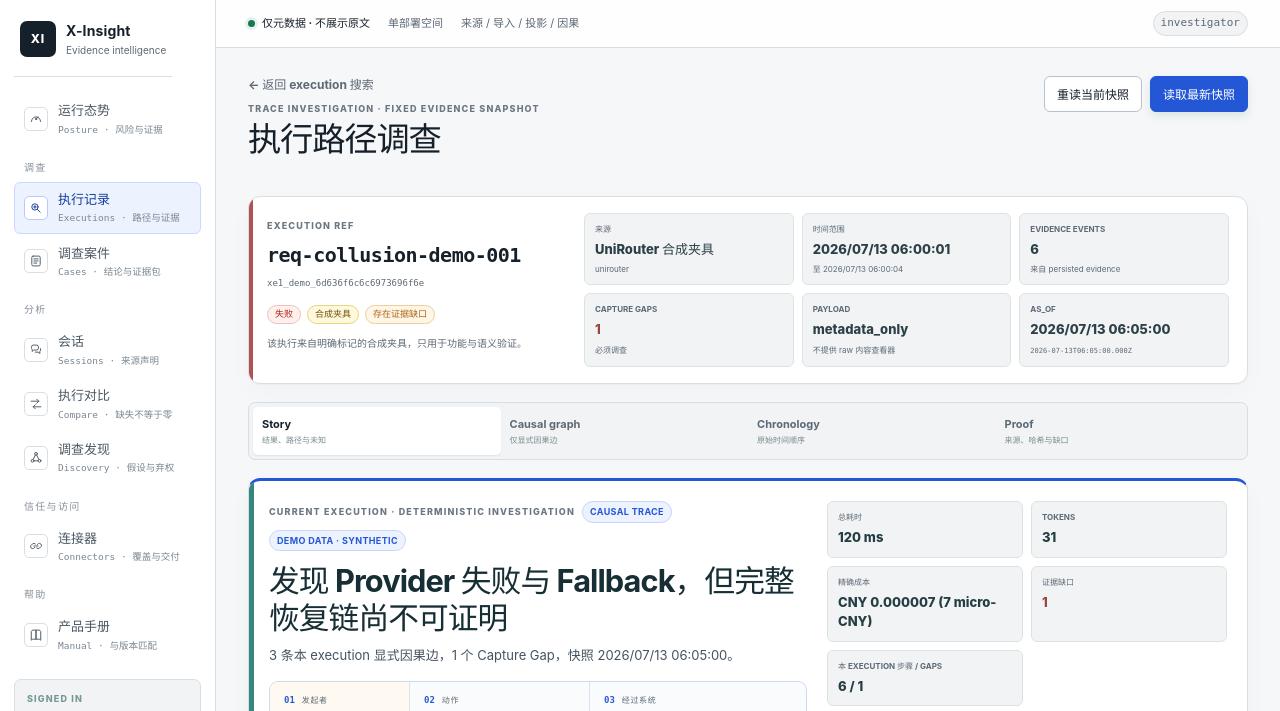
Test: PRD2 investigation UI › shows chronology separately from declared causality and exposes allowlisted source detail
Expected: the heading "执行路径调查" is shown, [248,119,441,159]
Expected: the text "发起者" is shown, [302,695,328,705]
What coordinates should you click on to do the following:
click the button "Chronology 原始时间顺序"
I would click on:
 (872, 431)
Its box is [748,406,996,455].
(page scrolled)
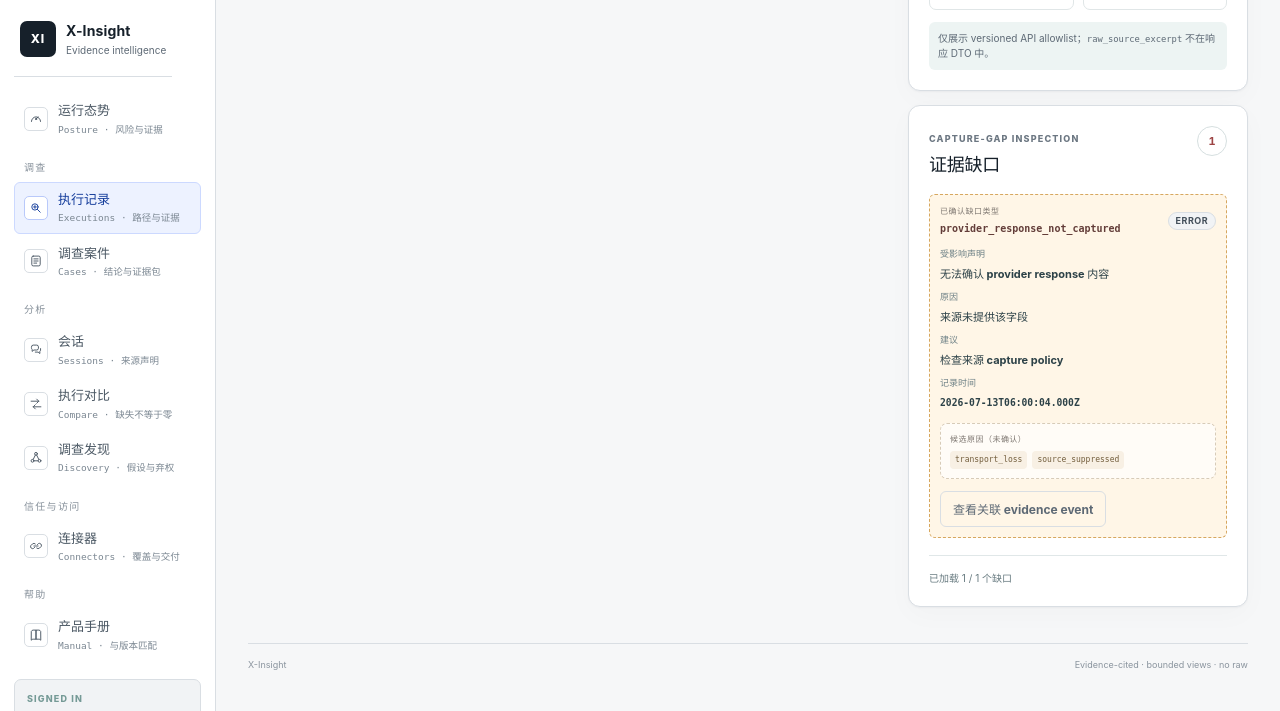
Result: the text "provider_response_not_captured" is shown at [940,222,1121,236]
Result: the text "候选原因（未确认）" is shown at [950,434,1026,444]
